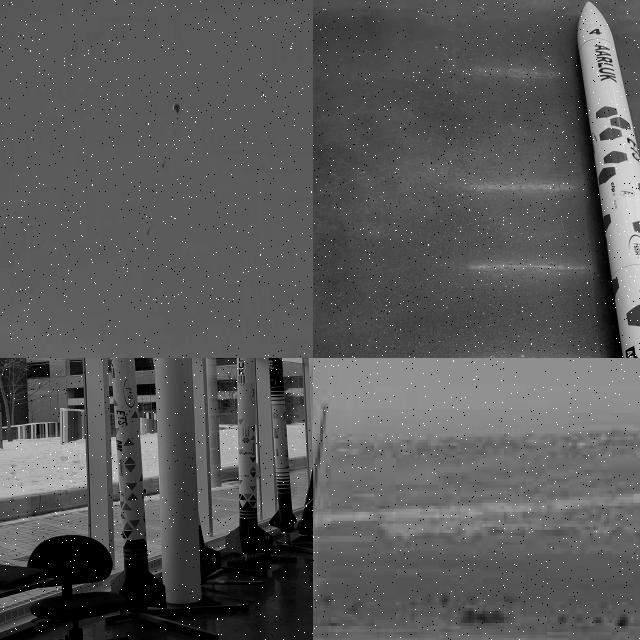Rocket: (576, 0, 640, 358), (153, 358, 221, 582), (110, 358, 167, 615), (225, 358, 273, 555), (268, 358, 297, 534), (297, 467, 313, 536), (147, 226, 151, 235)
